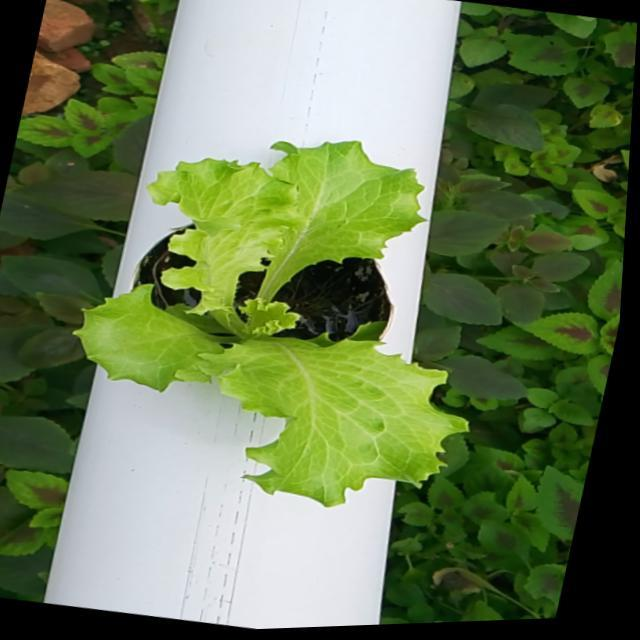Baby: (60, 140, 453, 505)
